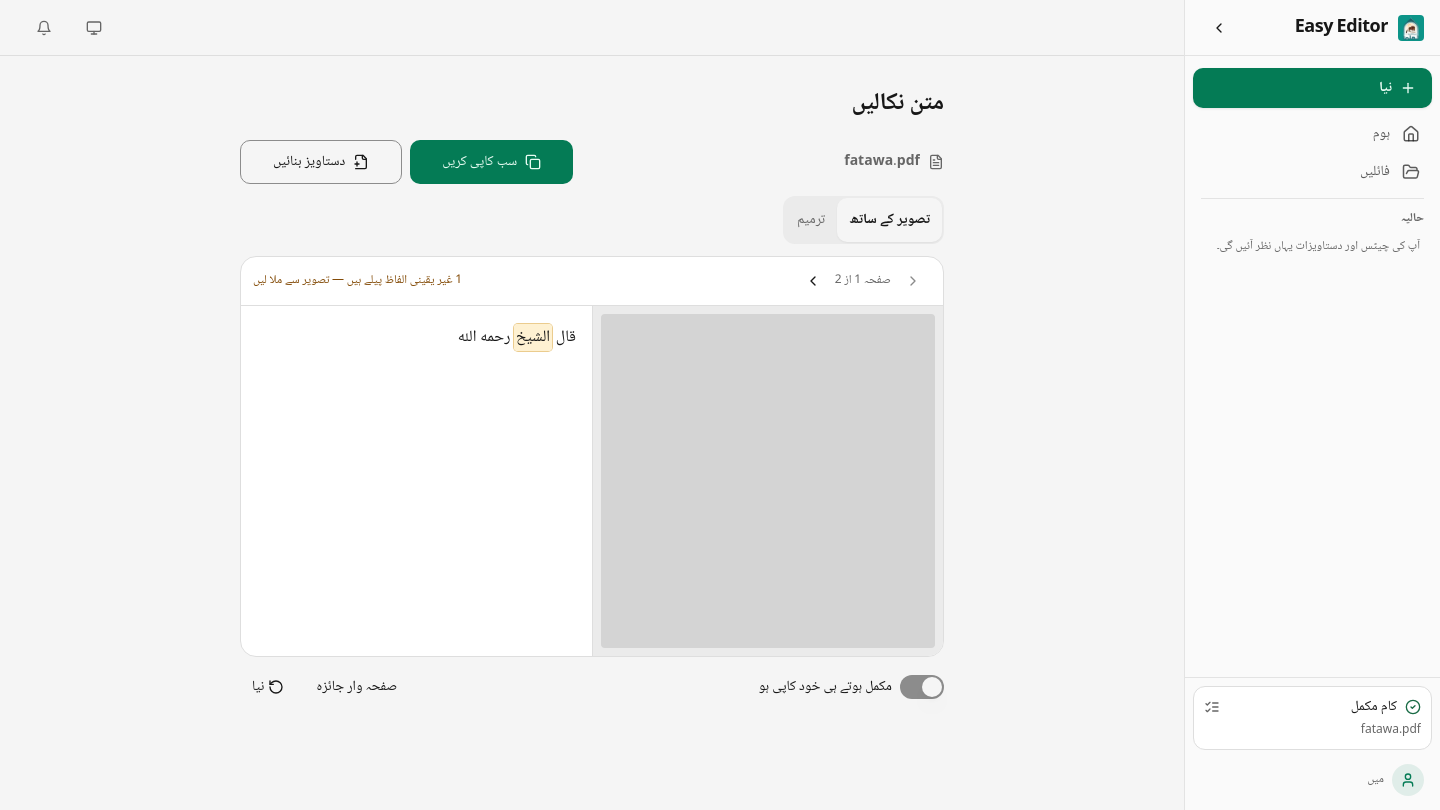
Extract page › shows a scan beside its text, uncertain words in yellow, page by page
Earlier steps of the test are not shown.
Expected: the text "1 غیر یقینی الفاظ پیلے ہیں — تصویر سے ملا لیں" is shown, x1=253 y1=273 x2=462 y2=289
Click the button named "اگلا صفحہ" at (813, 281), box x1=795 y1=263 x2=831 y2=299
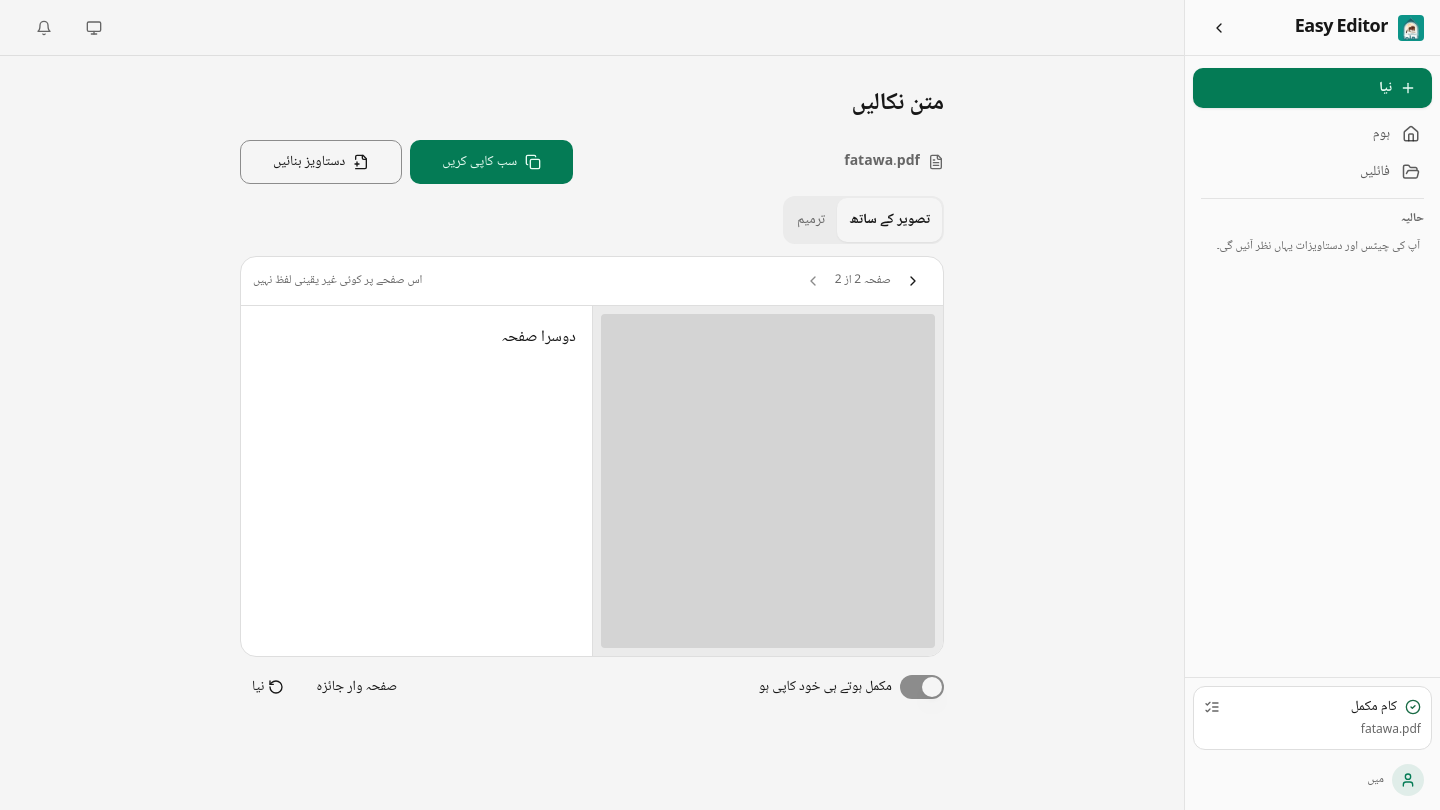
Now the text "دوسرا صفحہ" is shown, box x1=501 y1=324 x2=576 y2=351
Click the tab "ترمیم" at (811, 220), box x1=785 y1=198 x2=837 y2=242
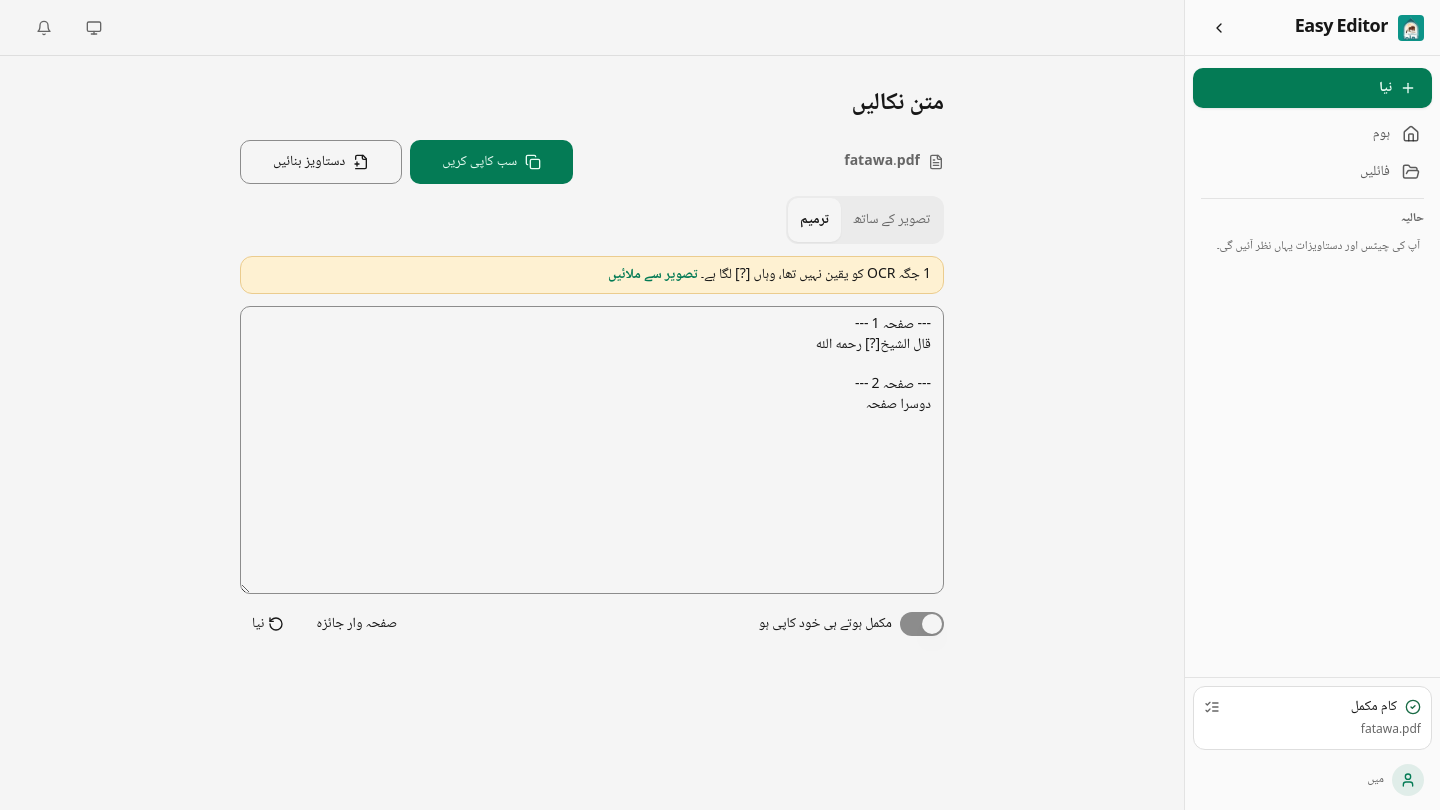
Now the text box showing "قال الشيخ[?]" is shown, box x1=240 y1=306 x2=944 y2=594
Click the button "تصویر سے ملائیں" at (653, 275), box x1=608 y1=265 x2=698 y2=285
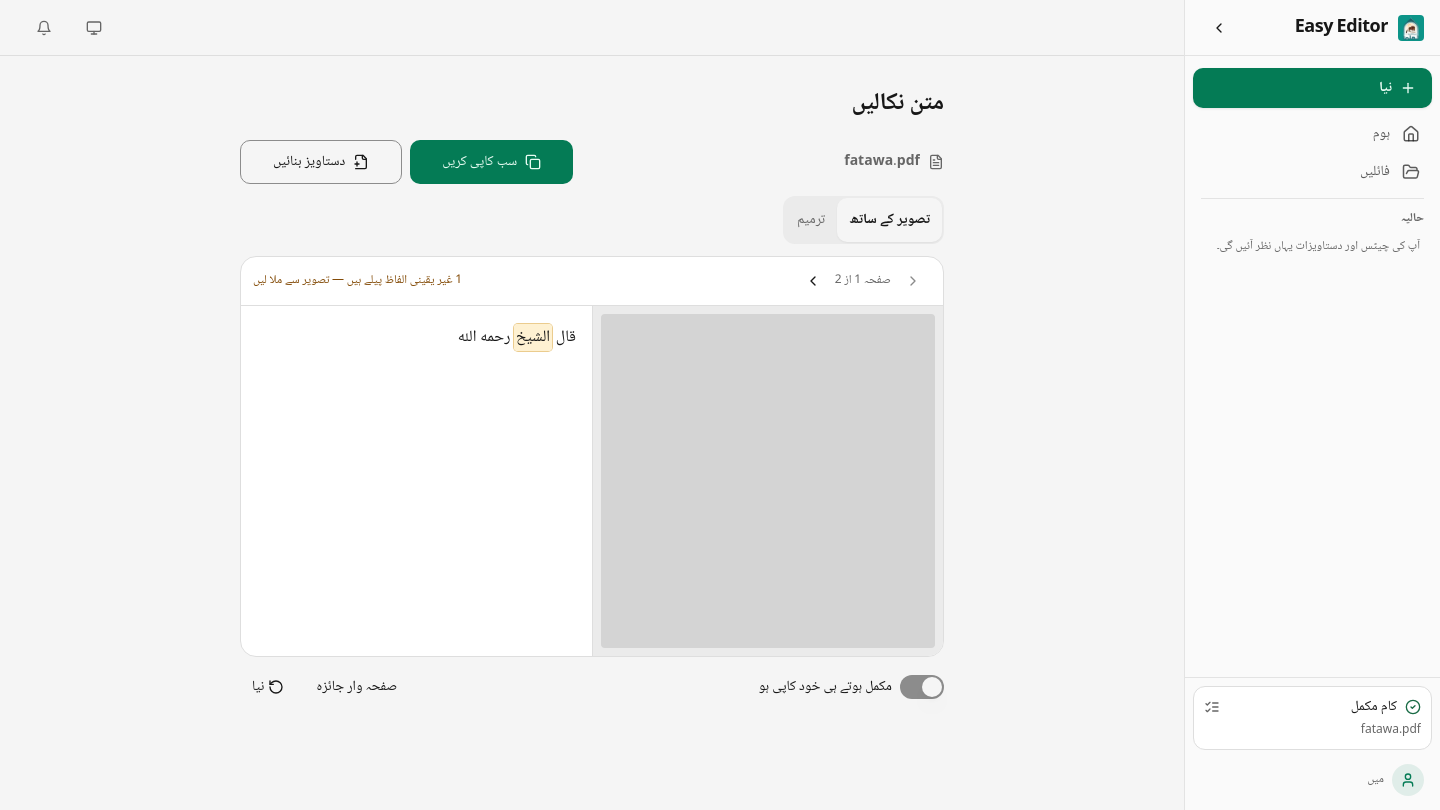
Now the tab "تصویر کے ساتھ" is selected, box x1=837 y1=198 x2=942 y2=242
